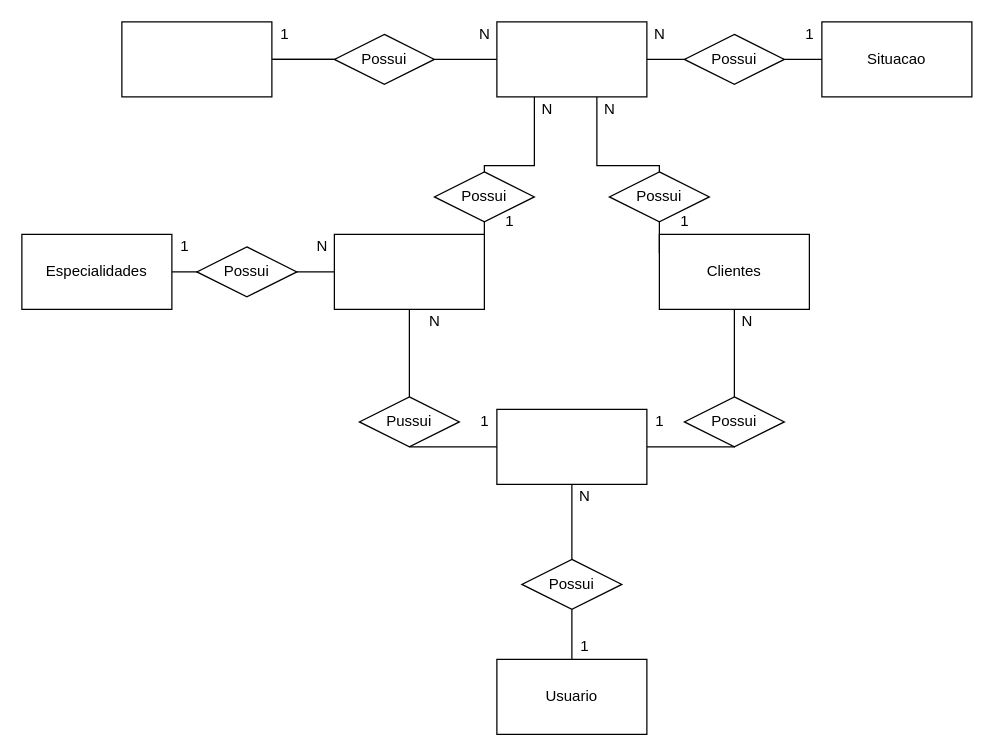
The diagram is 994 pixels wide and 756 high, and some of its shapes have lost their labels. Each missing label, with the centre of its shape:
"Clinica" goes at [196,59].
"Consultas" goes at [571,59].
"Médicos" goes at [408,271].
"TipoUsuario" goes at [571,446].
